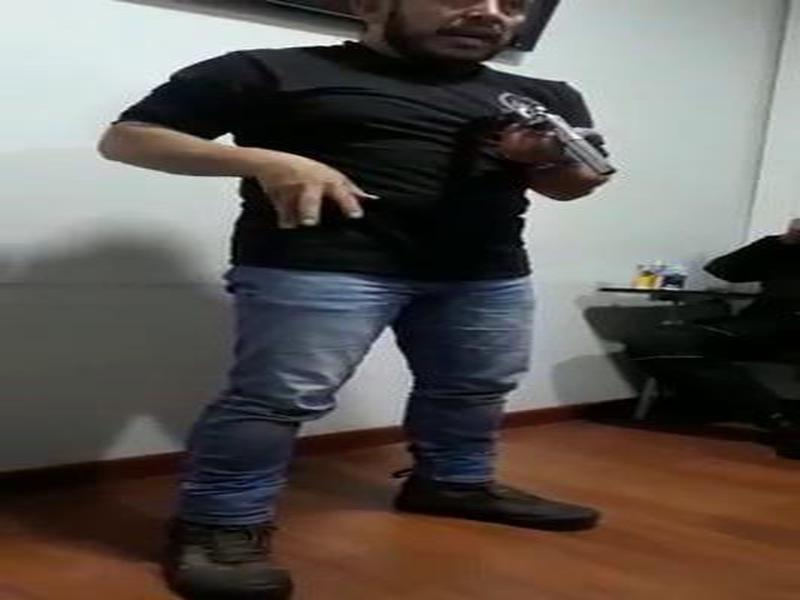Revolver: (457, 90, 618, 202)
